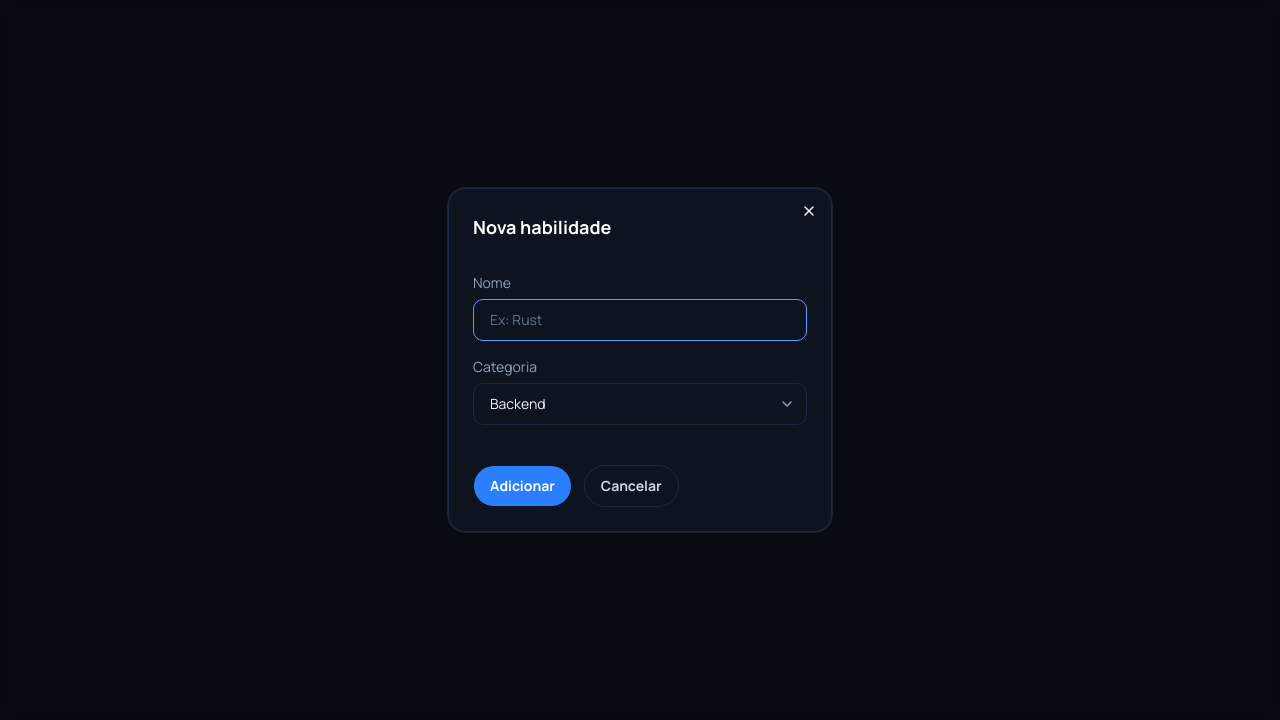
Test: AddSkillModal › shows a specific message on duplicate
Type "PHP" into the field with placeholder "Ex: Rust" at (640, 320), box left=473, top=299, right=807, bottom=341
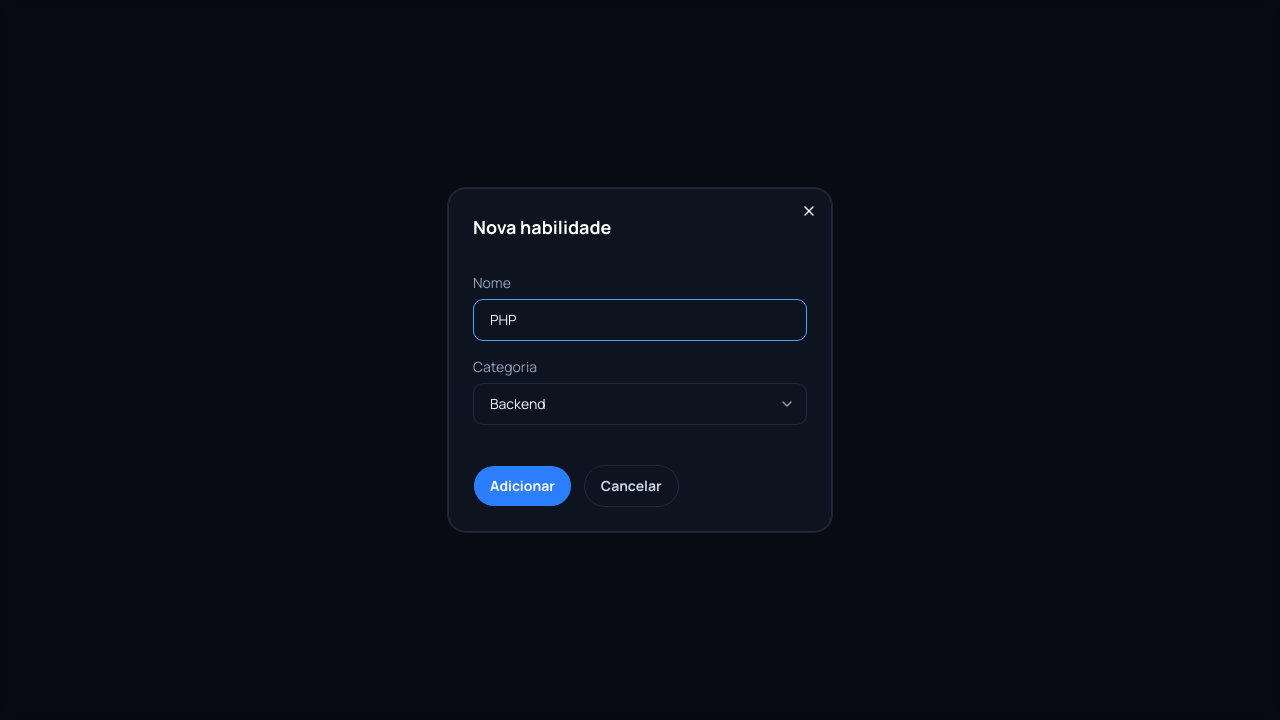
Click the button "Adicionar" at (522, 486), box left=473, top=465, right=572, bottom=507
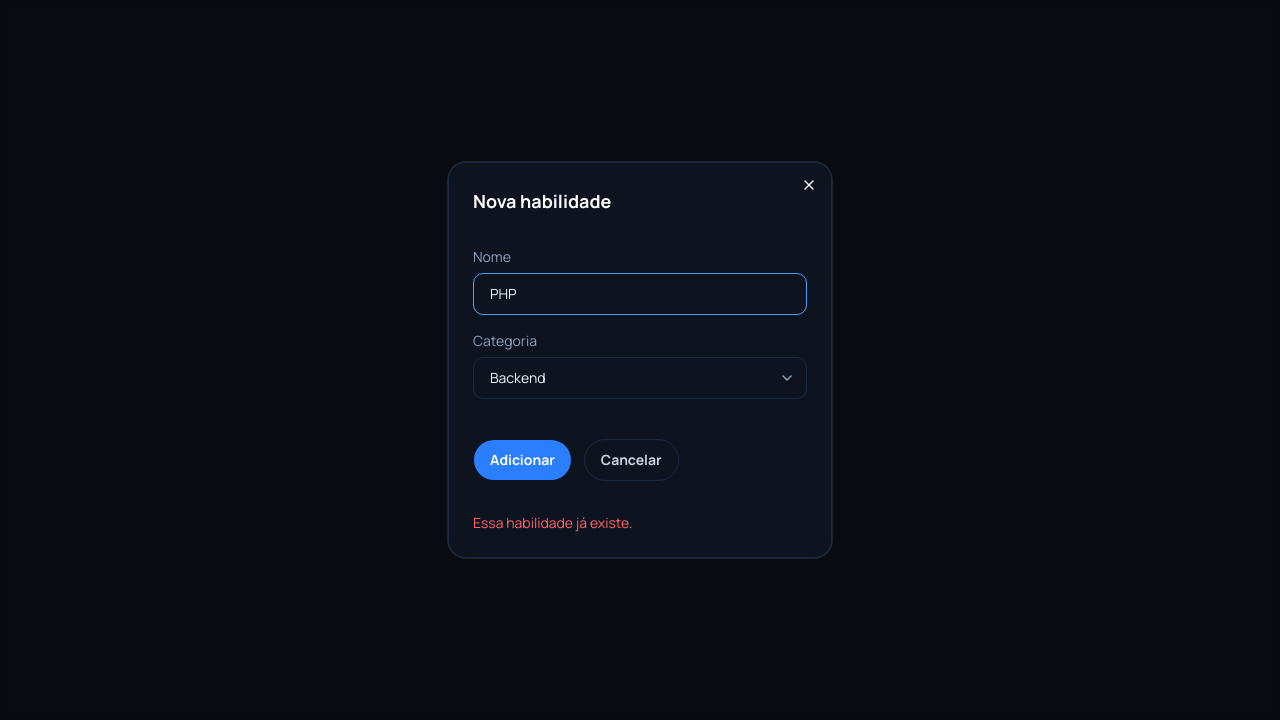
Now the text "Essa habilidade já existe." is shown, box left=473, top=513, right=633, bottom=532
